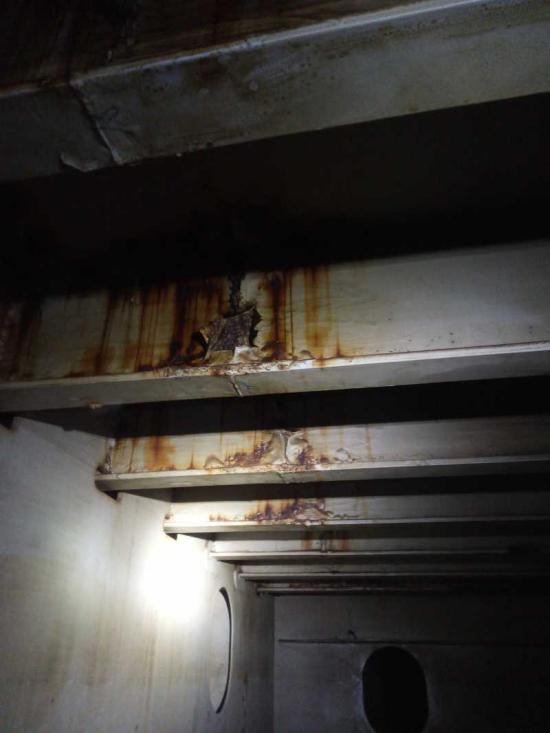corrosion: (85, 281, 228, 377), (241, 254, 350, 363), (199, 426, 359, 471), (100, 425, 182, 484), (213, 494, 350, 526), (192, 299, 267, 356), (298, 533, 359, 553)
